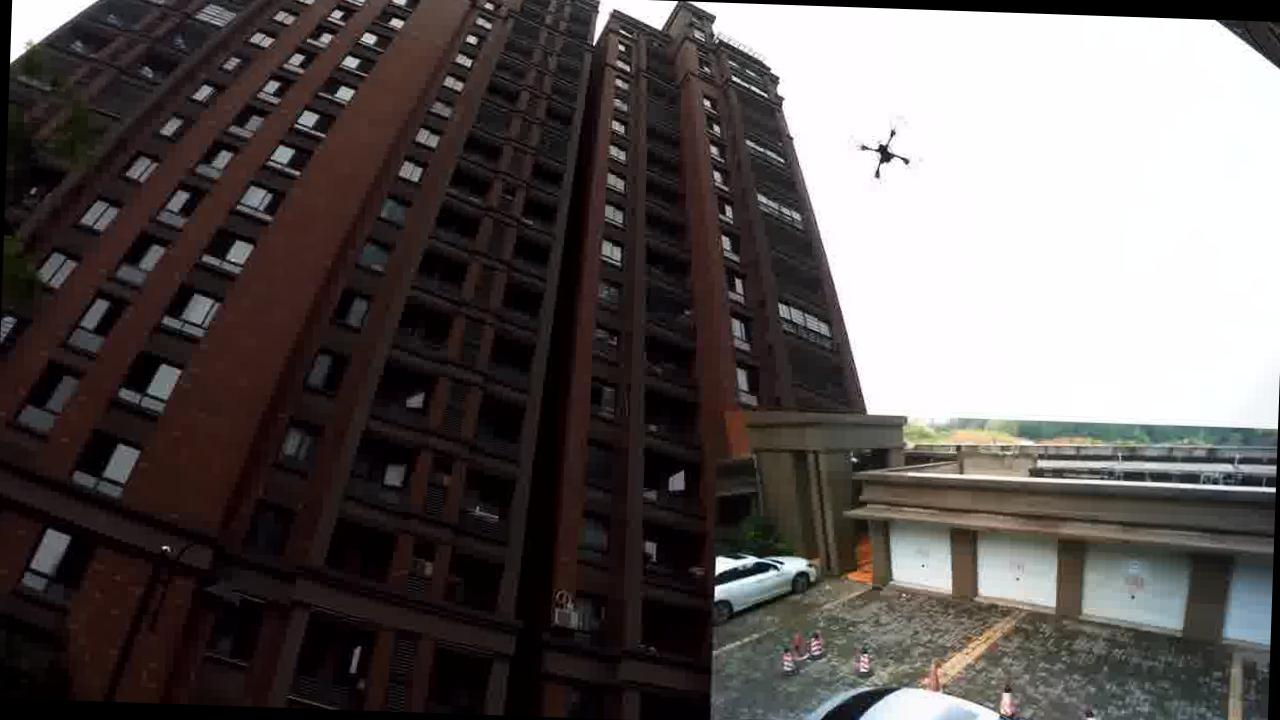drone: (850, 117, 916, 180)
